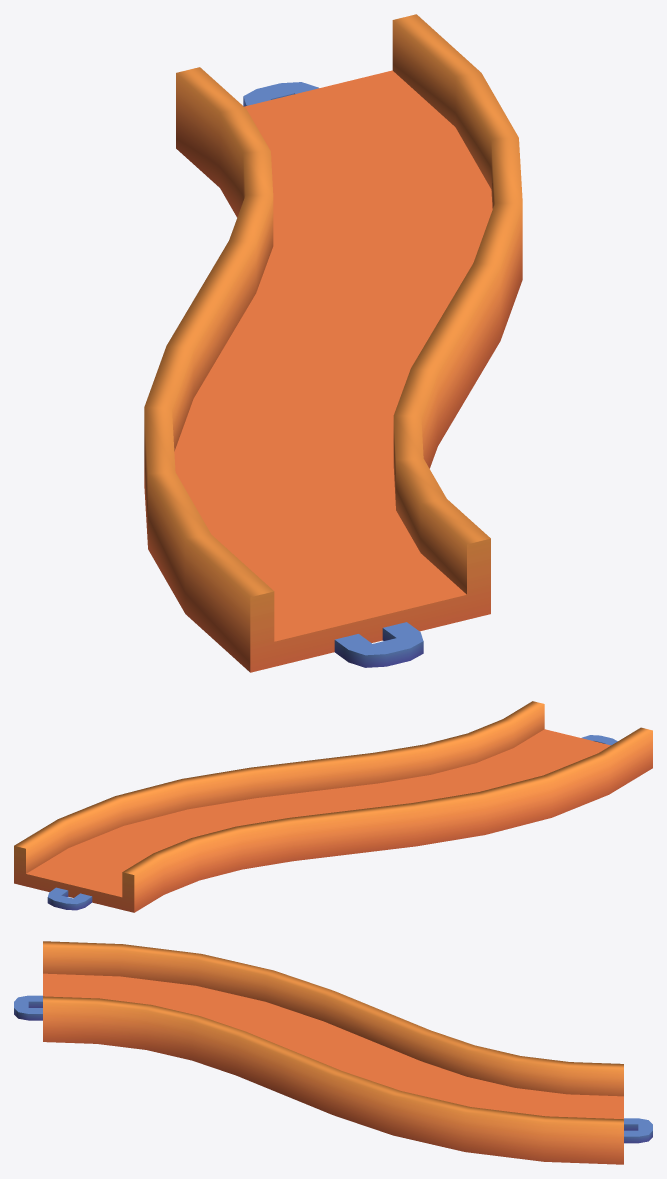
File: kenney-toy-car-track-narrow-curve.glb
3 views of the same model, one above another, from view 1: azimuth 30°, elevation 25°; view 2: azimuth 150°, elevation 25°; view 3: azimuth 270°, elevation 25° (orthographic). The views are drawn at different scales.
Parts seen in each view (by area): view 1: track-narrow-curve; view 2: track-narrow-curve; view 3: track-narrow-curve.
Boxes of the visible parts, x1,y1,x2,y2 form: track-narrow-curve: [144, 14, 522, 672]; track-narrow-curve: [14, 701, 652, 912]; track-narrow-curve: [14, 941, 652, 1164].
Bounding box in the file's own units: 3 × 0.2997 × 4.4.
Materials: 1 (1 with a texture image).
